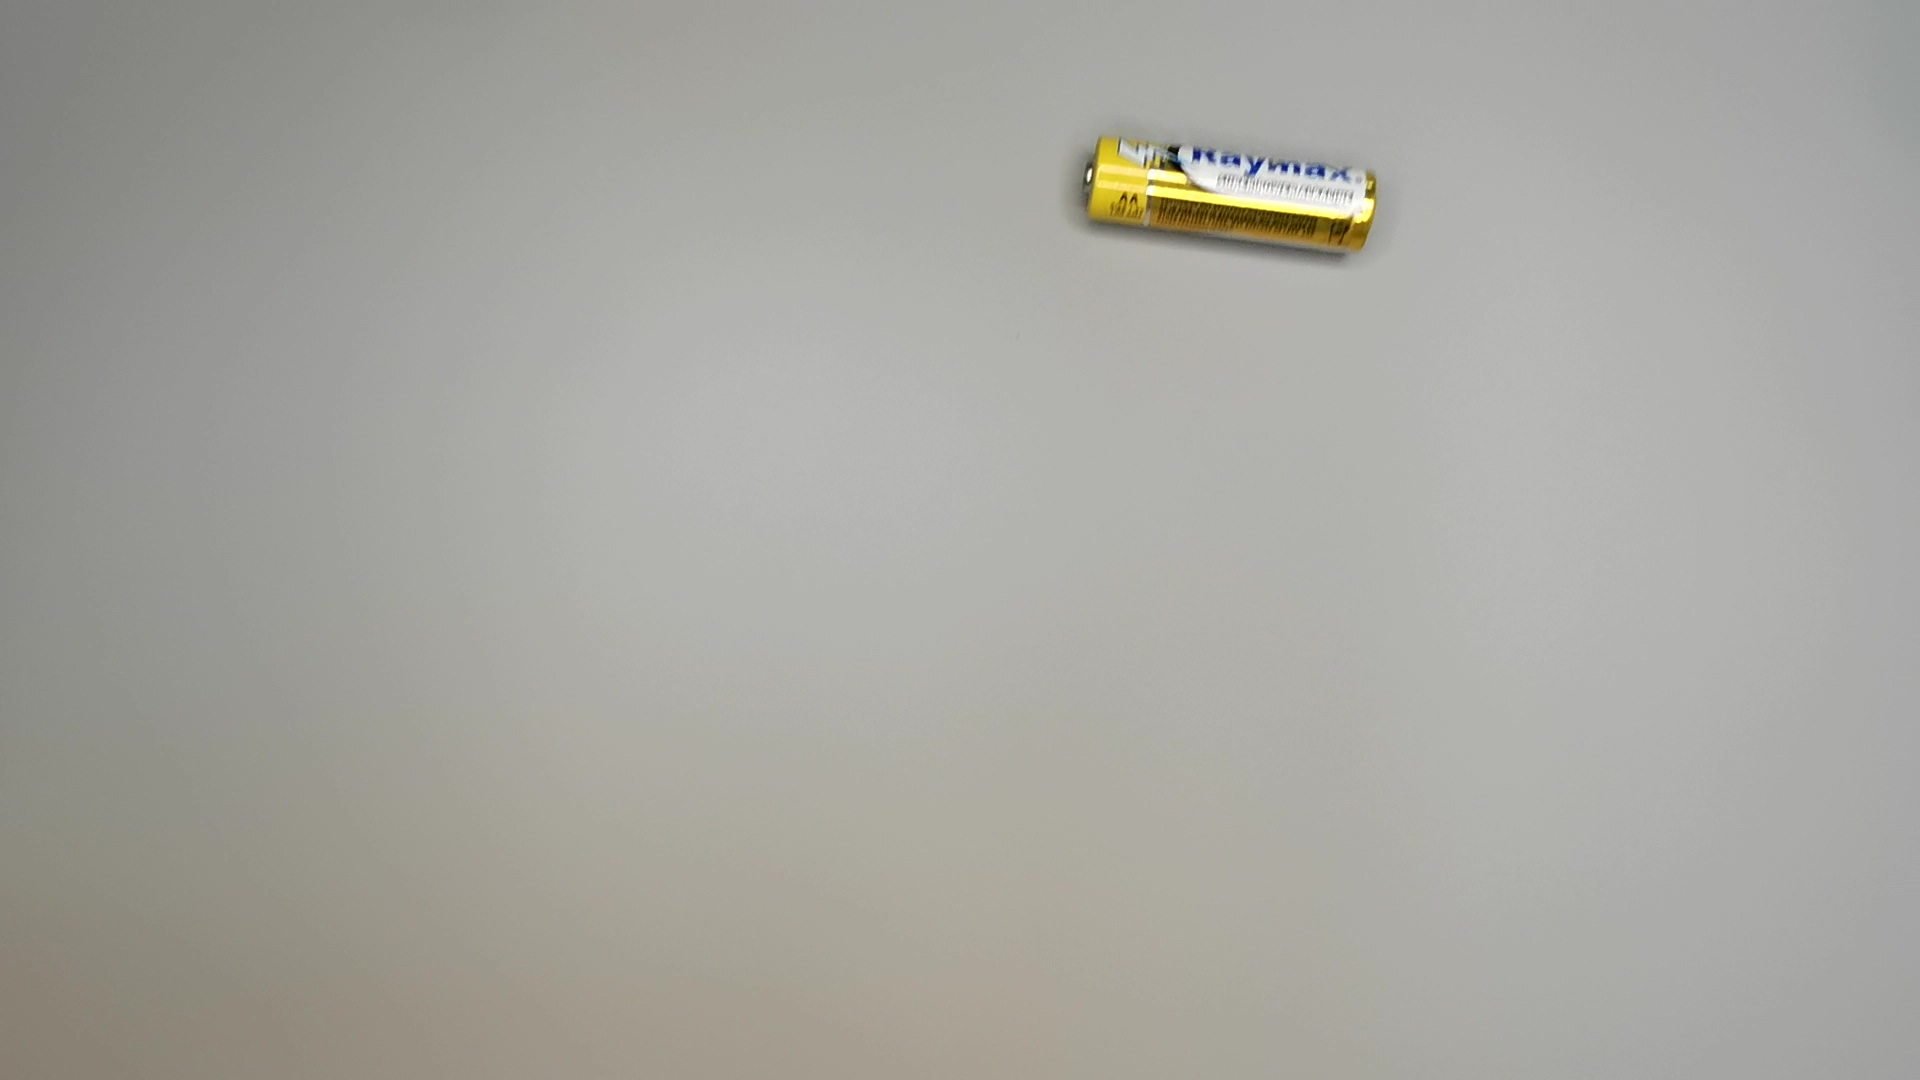battery: (1073, 135, 1382, 260)
